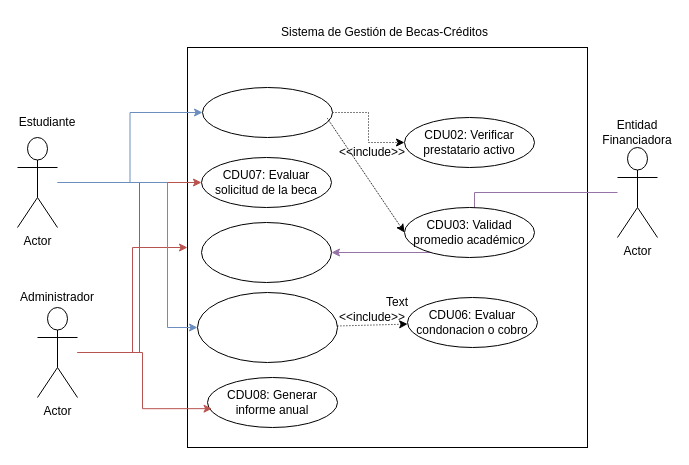
This 689x465 diagram has some shape labels left out. The shapes that lost their labels are listed below. From the top down, each one's centre as x and y in pixels, then its label:
At point (267, 112): "CDU01: Solicitar beca-crédito".
At point (266, 252): "CDU04: Registrar aporte anual de fondos".
At point (267, 327): "CDU05: Registrar calificaciones semestrales".
